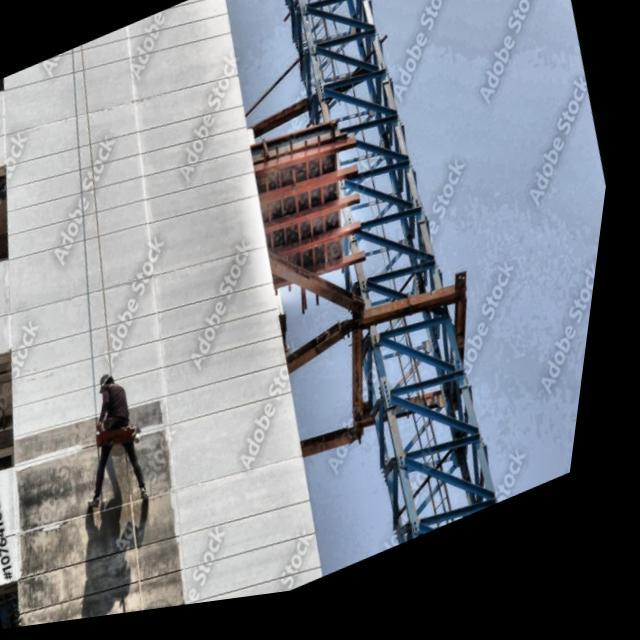belt: (100, 411, 156, 465)
